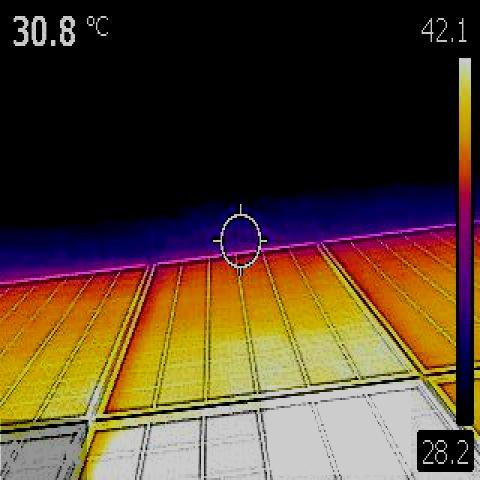fault: (267, 385, 411, 475), (108, 422, 258, 474), (1, 419, 87, 480)
